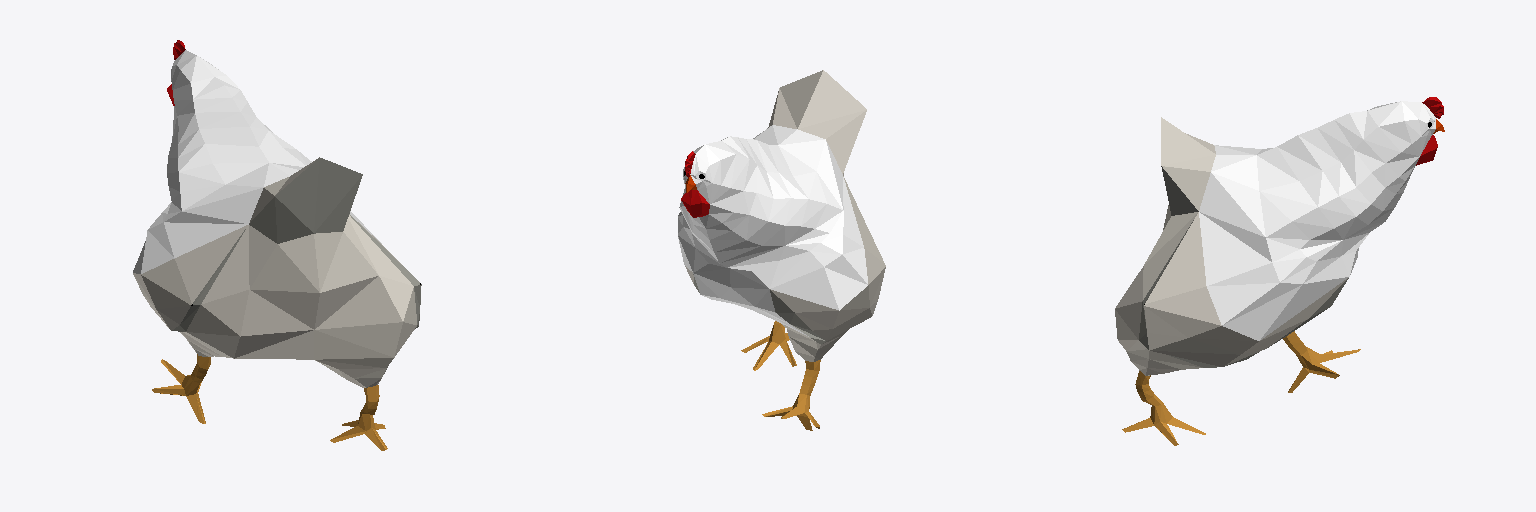
Rendered from frame7.obj.
3 views of the same model, side by side, from view 1: azimuth 30°, elevation 25°; view 2: azimuth 150°, elevation 25°; view 3: azimuth 270°, elevation 25° (orthographic).
Parts seen in each view (by area): view 1: frame9:Chicken; view 2: frame9:Chicken; view 3: frame9:Chicken.
Boxes of the visible parts, <box> form: frame9:Chicken: <box>133,40,421,450</box>; frame9:Chicken: <box>678,70,885,430</box>; frame9:Chicken: <box>1115,97,1444,445</box>.
Bounding box in the file's own units: 2.14 × 3.02 × 2.84.